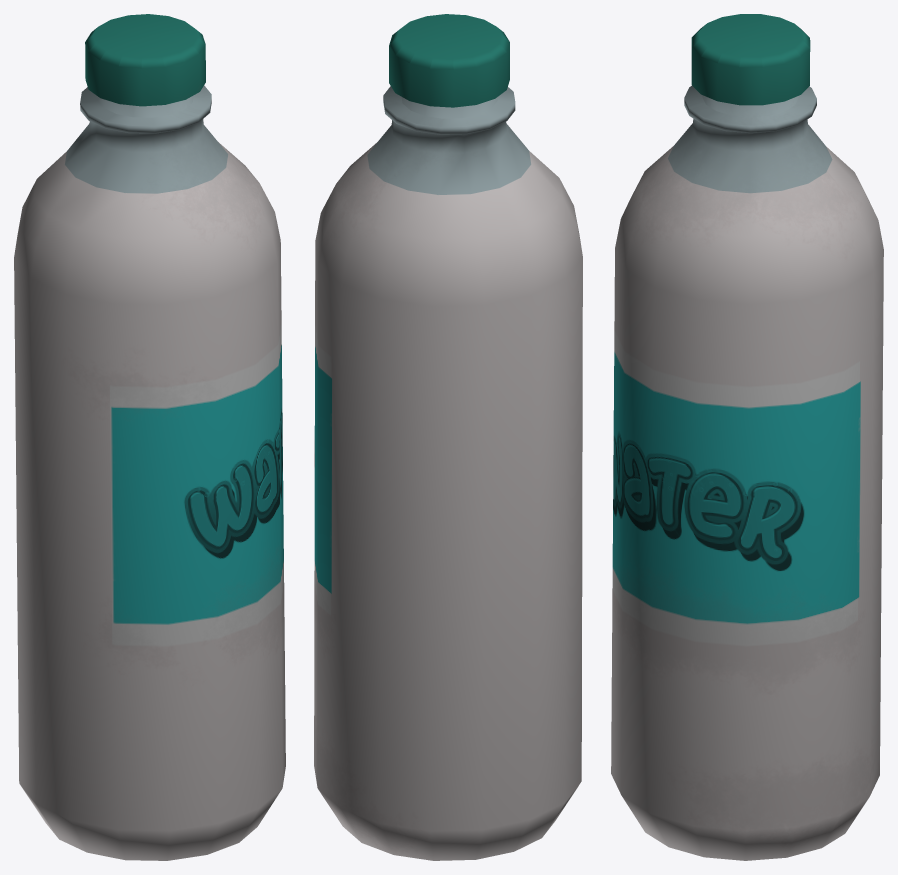
Rendered from WaterBottle.fbx.
3 views of the same model, side by side, from view 1: azimuth 30°, elevation 25°; view 2: azimuth 150°, elevation 25°; view 3: azimuth 270°, elevation 25° (orthographic).
Parts seen in each view (by area): view 1: WaterBottle; view 2: WaterBottle; view 3: WaterBottle.
Boxes of the visible parts, left/top/right/bottom form: WaterBottle: left=14, top=14, right=285, bottom=860; WaterBottle: left=314, top=14, right=582, bottom=860; WaterBottle: left=611, top=14, right=883, bottom=860.
Bounding box in the file's own units: 9.09 × 28.9 × 9.1.
